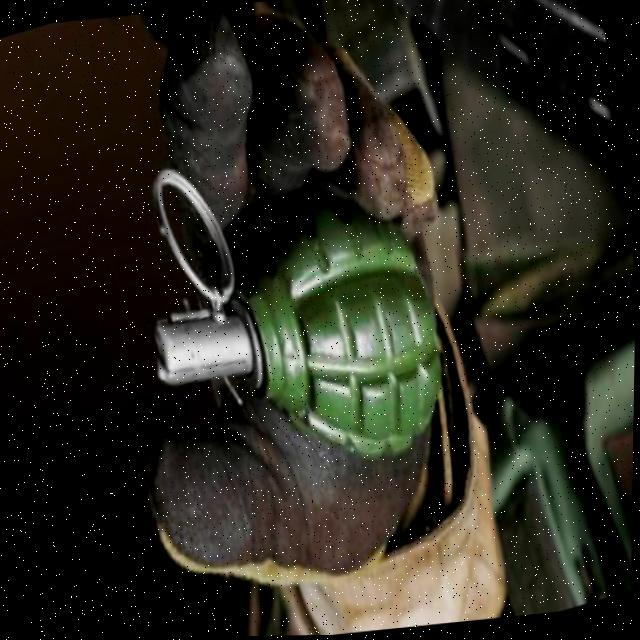grenade: (99, 92, 482, 531)
